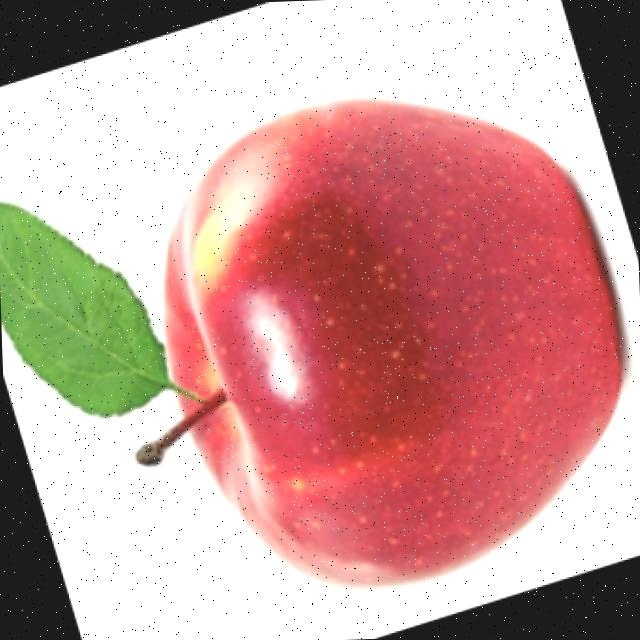Ripe: (153, 84, 636, 606)
